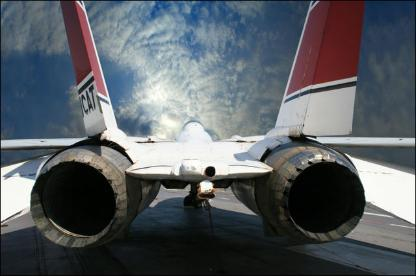EF2000: (1, 0, 415, 248)
